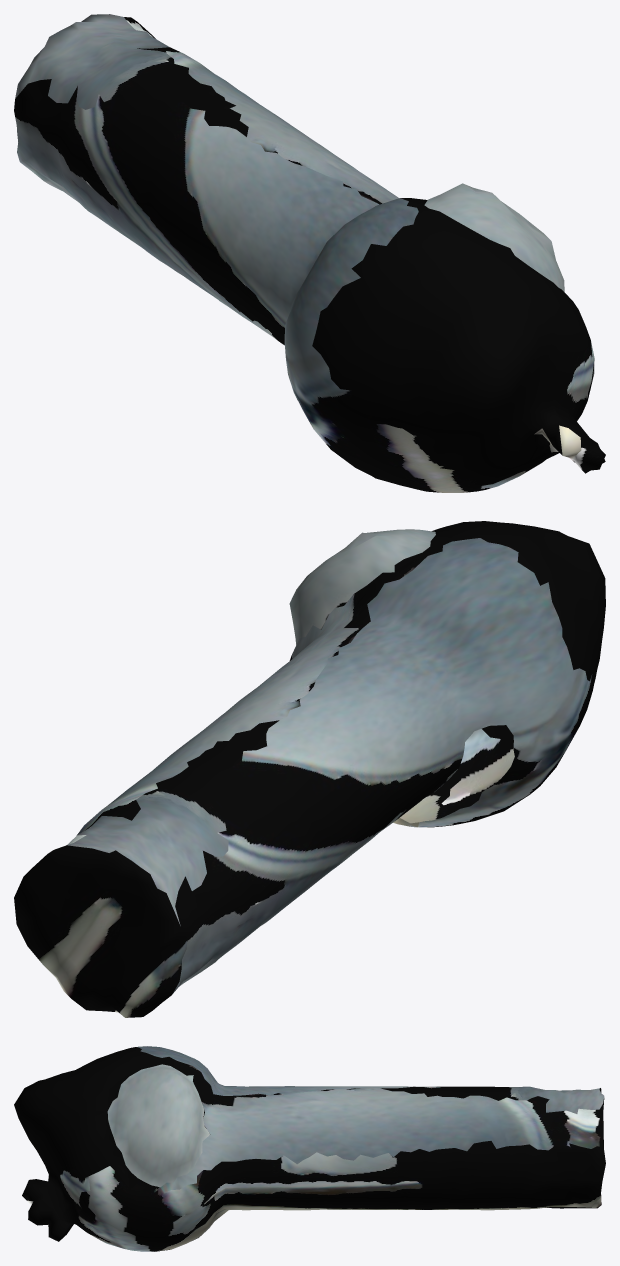
File: scan_align.obj
The picture shows the model from 3 angles, top to bottom: view 1: azimuth 30°, elevation 25°; view 2: azimuth 150°, elevation 25°; view 3: azimuth 270°, elevation 25°; orthographic projection. The views are drawn at different scales.
Size of the model in its own units: 0.0312 by 0.0314 by 0.0931.
